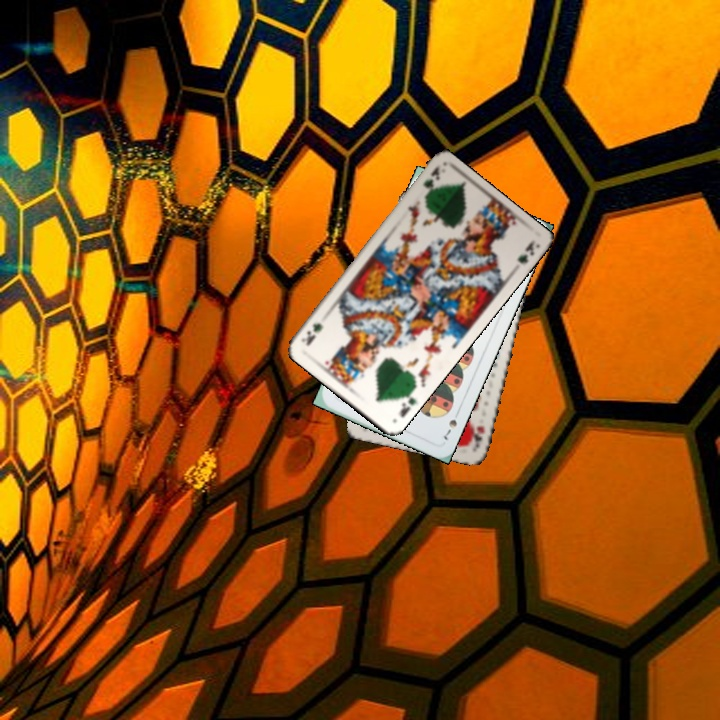GK: (419, 162, 442, 201), (396, 384, 419, 420)
HK: (469, 421, 488, 450)
S7: (439, 415, 460, 443)
